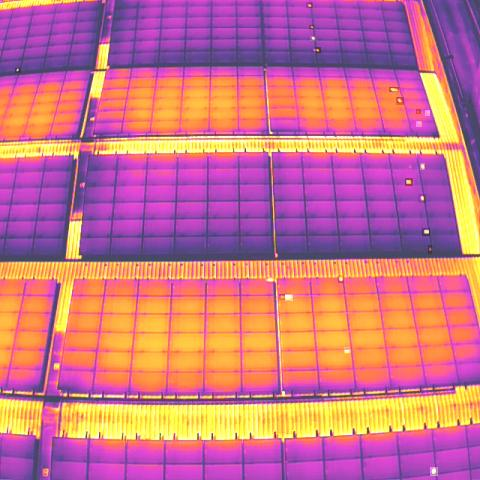fault: (430, 467, 438, 476), (418, 194, 426, 203), (265, 277, 275, 284), (422, 228, 430, 236), (406, 178, 414, 186), (396, 97, 404, 105), (286, 294, 294, 301), (389, 87, 399, 92), (338, 275, 344, 283), (306, 2, 313, 8), (344, 347, 350, 353), (428, 245, 432, 254), (279, 294, 285, 300), (416, 121, 422, 127), (420, 163, 425, 170), (16, 68, 22, 73), (310, 36, 316, 41), (316, 47, 321, 53), (425, 110, 430, 116), (311, 47, 316, 52), (416, 109, 421, 114), (309, 25, 314, 29)
